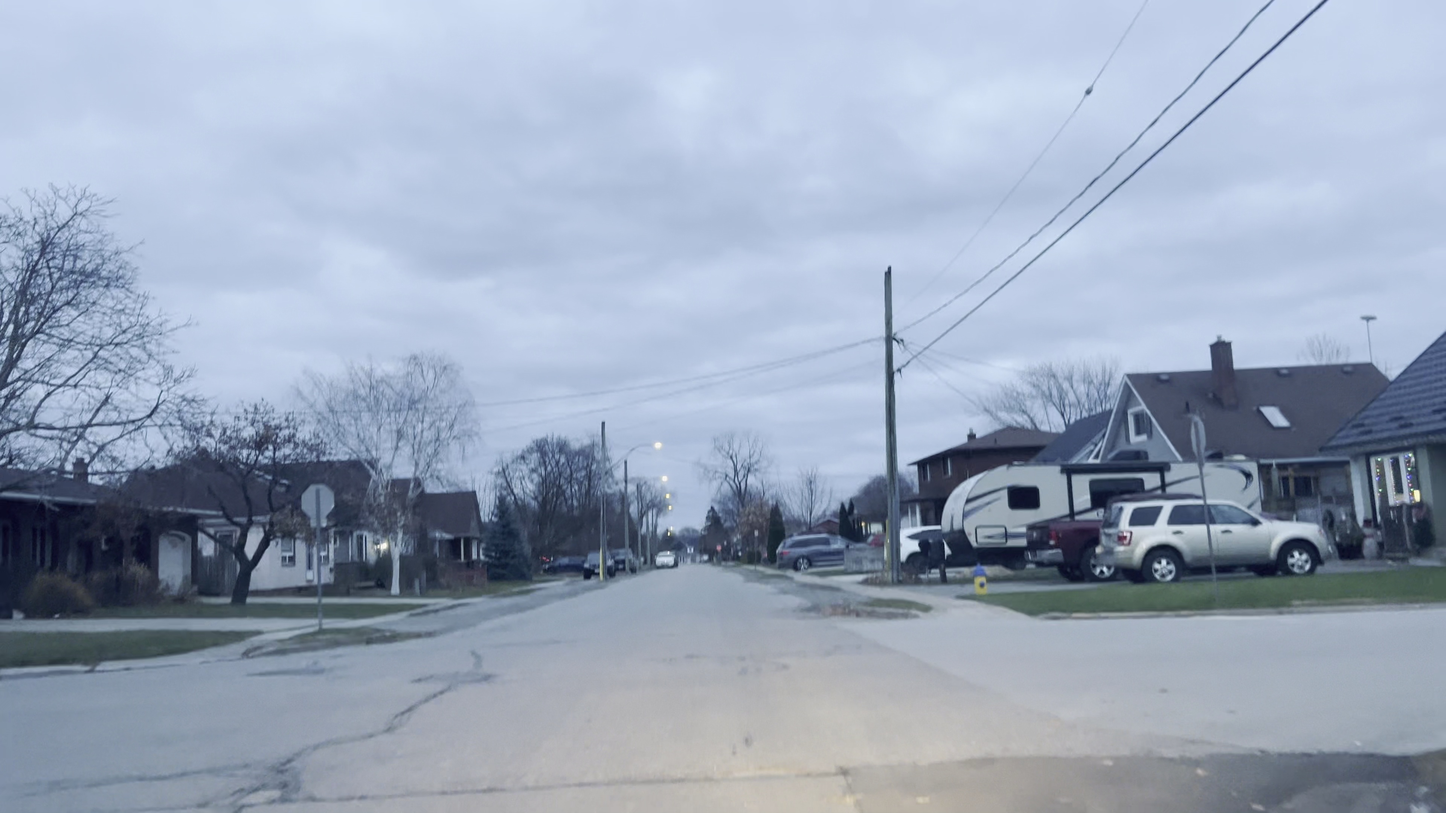cracks: (330, 772, 841, 804), (205, 748, 317, 813), (354, 707, 426, 748), (418, 663, 488, 702)
